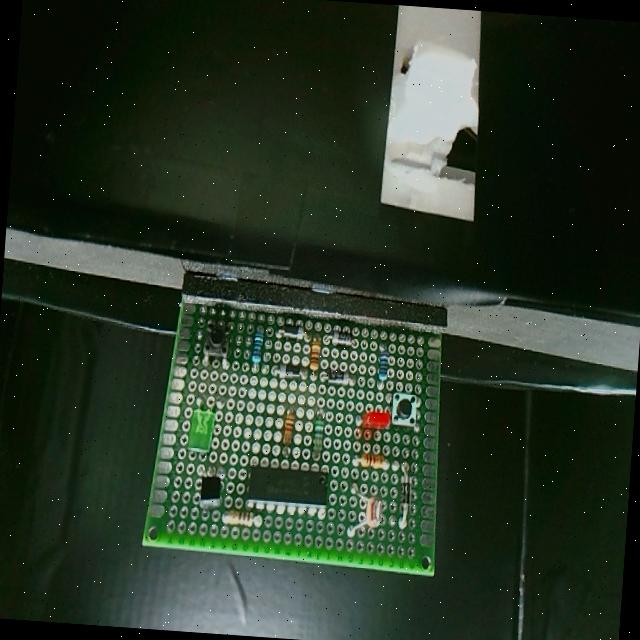IC: (240, 452, 334, 522)
cds: (343, 476, 387, 544)
diode: (392, 459, 416, 532), (270, 315, 312, 345), (317, 362, 360, 388), (320, 324, 361, 351), (267, 358, 309, 383)
led: (182, 392, 220, 459), (353, 400, 392, 440)
resistor: (246, 312, 269, 378), (216, 502, 266, 532), (306, 320, 327, 382), (344, 444, 390, 472), (278, 399, 298, 459), (372, 334, 392, 390), (308, 406, 326, 462)
switch: (195, 306, 237, 372), (382, 386, 423, 435)
transistor: (194, 456, 224, 506)
